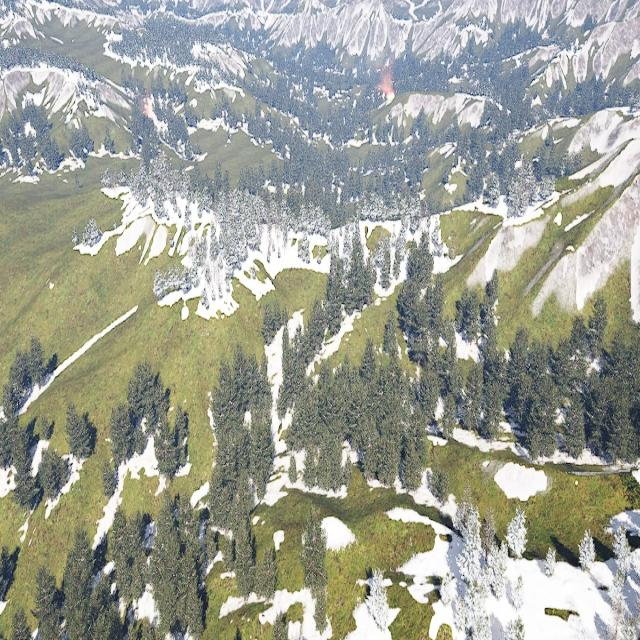fire: (144, 99, 154, 119), (383, 88, 395, 103)
smoke: (376, 53, 396, 90)
